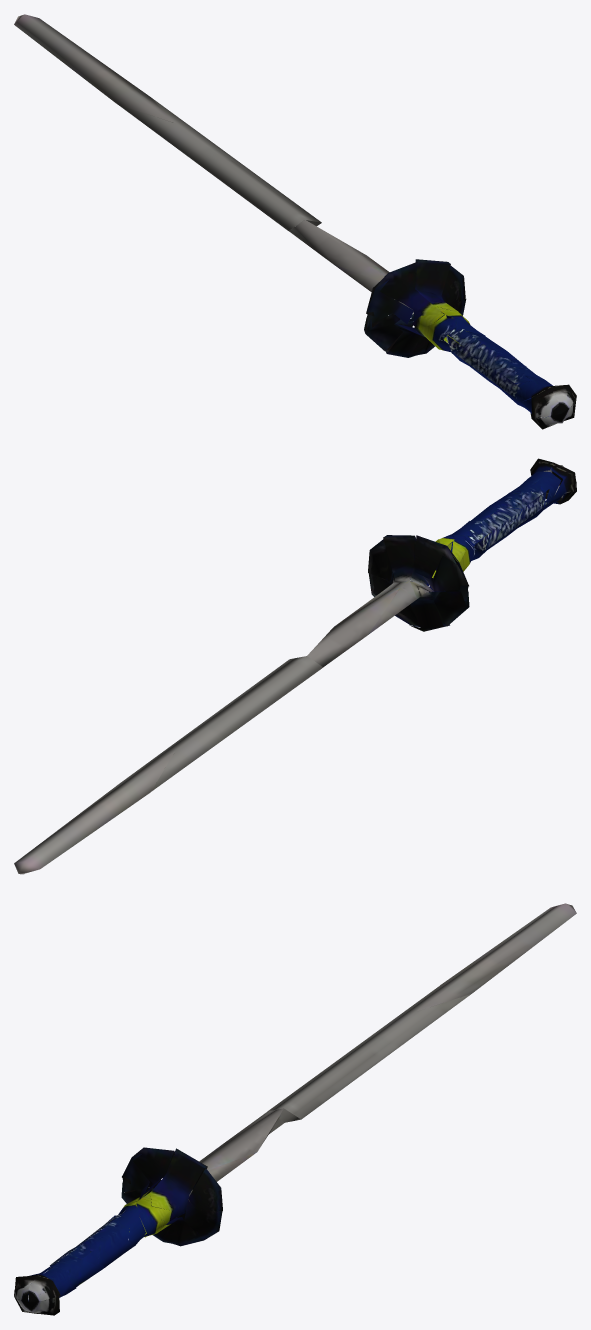
File: m_arming_sword_lod1.fbx
3 renders of one model, top to bottom at view 1: azimuth 30°, elevation 25°; view 2: azimuth 150°, elevation 25°; view 3: azimuth 330°, elevation 25°, orthographic.
Parts seen in each view (by area): view 1: tripo_node_42b77ec7-6755-46dc-ab25-219b920ea9a0; view 2: tripo_node_42b77ec7-6755-46dc-ab25-219b920ea9a0; view 3: tripo_node_42b77ec7-6755-46dc-ab25-219b920ea9a0.
Boxes of the visible parts, x1=… form: tripo_node_42b77ec7-6755-46dc-ab25-219b920ea9a0: x1=14, y1=14, x2=576, y2=429; tripo_node_42b77ec7-6755-46dc-ab25-219b920ea9a0: x1=14, y1=458, x2=576, y2=874; tripo_node_42b77ec7-6755-46dc-ab25-219b920ea9a0: x1=14, y1=903, x2=576, y2=1315.
Bounding box in the file's own units: 0.1352 × 0.1205 × 1.26.
